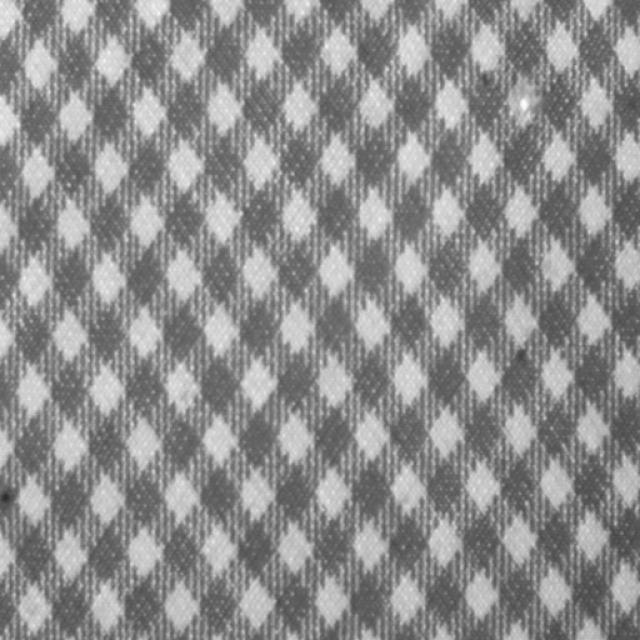Hole-Defect: (508, 85, 536, 122)
